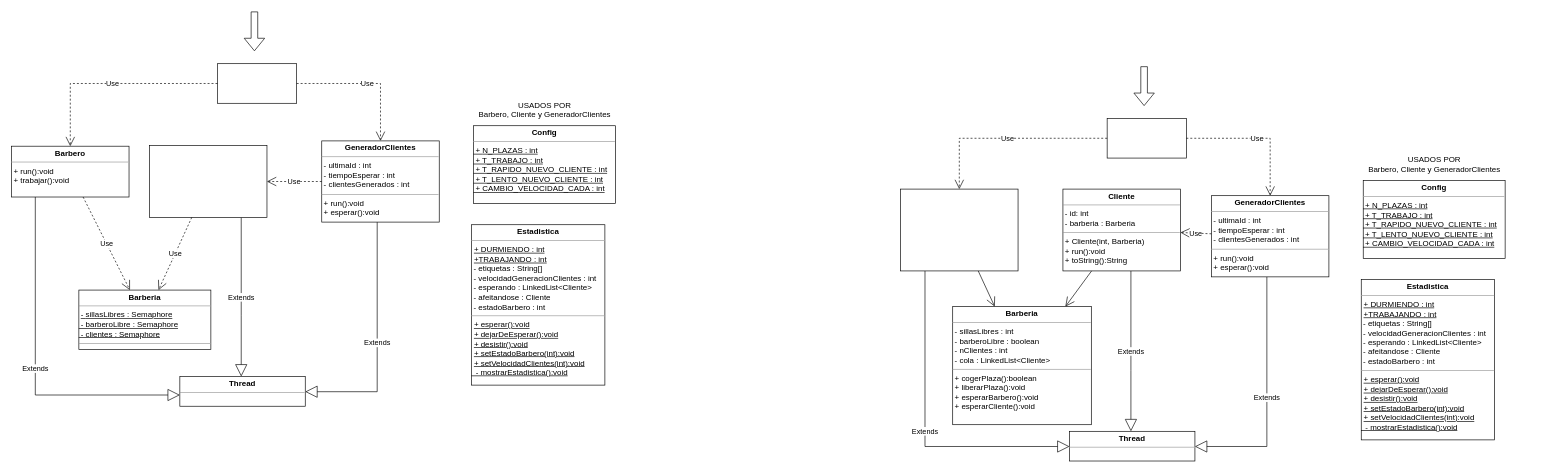
This 1565x473 diagram has some shape labels left out. Each missing label, with the box of its shape:
Barbero - barberia : Barberia + Barbero(Barberia) + run():void + trabajar():void: (900, 188, 1018, 271)
Cliente - id: int + Cliente(int) + run():void + toString():String: (149, 145, 267, 217)
Reto7_10_A + main(String): (217, 63, 297, 103)
Reto7_10_B + main(String): (1106, 118, 1186, 158)
